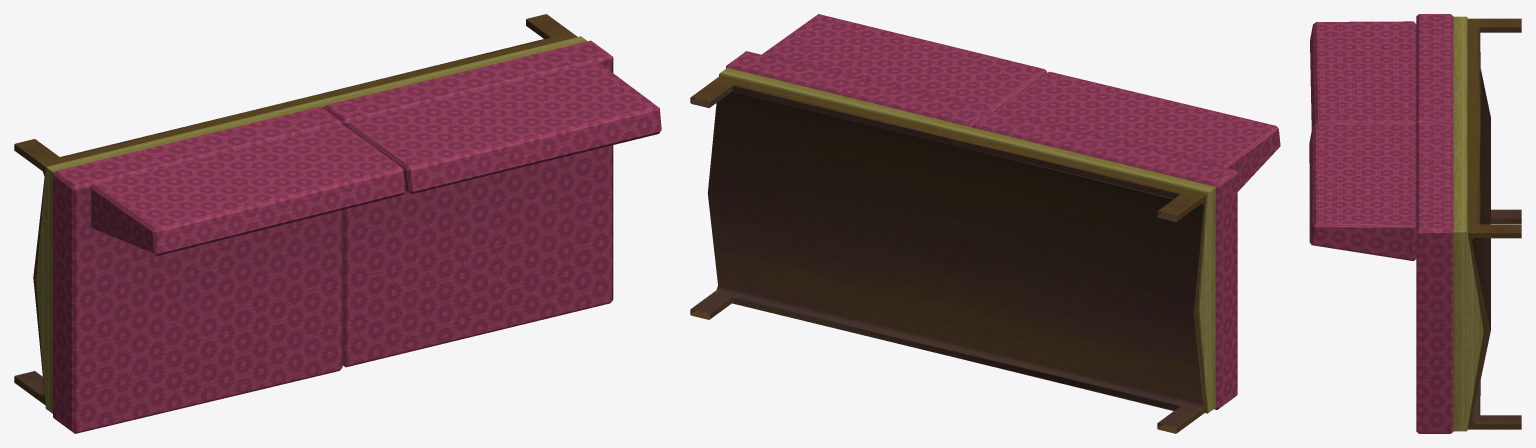
The model's file is nt_2020_house_02_couch_LOD1.obj.
3 renders of one model, left to right at view 1: azimuth 30°, elevation 25°; view 2: azimuth 150°, elevation 25°; view 3: azimuth 270°, elevation 25°, orthographic. The views are drawn at different scales.
Visible parts, largest first — view 1: mtl_nt_2020_house_02_couch; view 2: mtl_nt_2020_house_02_couch; view 3: mtl_nt_2020_house_02_couch.
Part boxes in pixels (bbox=[...]): mtl_nt_2020_house_02_couch: bbox=[14, 14, 661, 433]; mtl_nt_2020_house_02_couch: bbox=[690, 14, 1280, 433]; mtl_nt_2020_house_02_couch: bbox=[1309, 14, 1521, 433].
Bounding box in the file's own units: 192 × 84.88 × 79.14.
